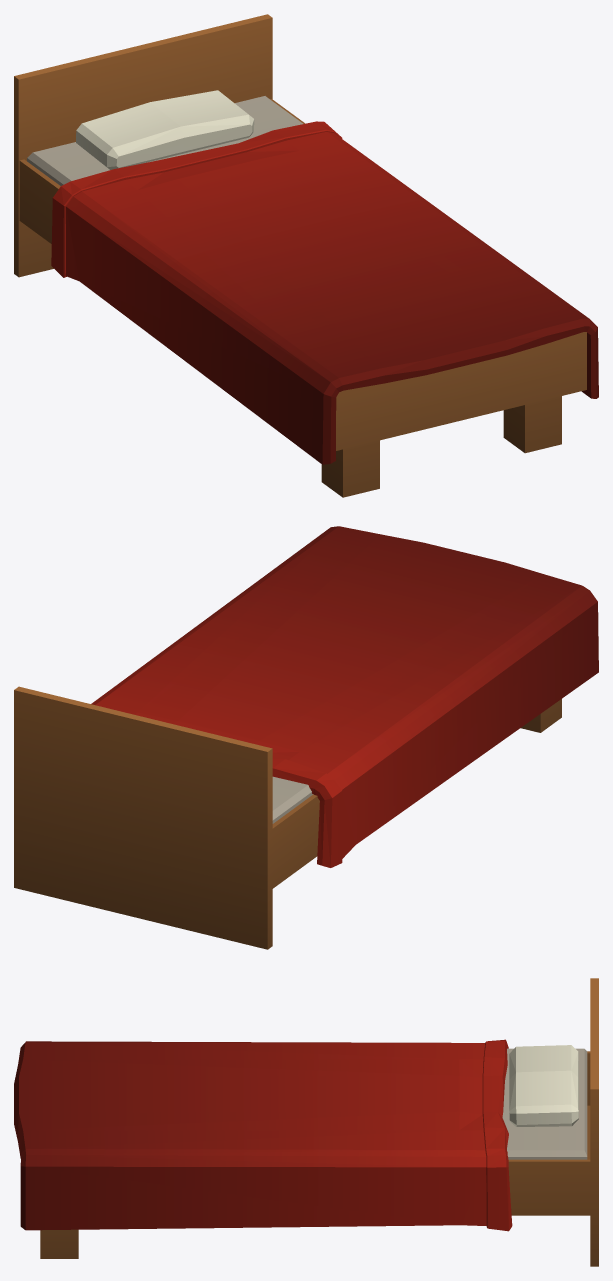
File: Prop_Bed_02.obj
The picture shows the model from 3 angles, top to bottom: view 1: azimuth 30°, elevation 25°; view 2: azimuth 150°, elevation 25°; view 3: azimuth 270°, elevation 25°; orthographic projection. The views are drawn at different scales.
Visible parts, largest first — view 1: Prop_Bed_02; view 2: Prop_Bed_02; view 3: Prop_Bed_02.
Part boxes in pixels (x1=…): Prop_Bed_02: x1=14, y1=14, x2=598, y2=497; Prop_Bed_02: x1=14, y1=526, x2=598, y2=949; Prop_Bed_02: x1=14, y1=978, x2=598, y2=1266.
Bounding box in the file's own units: 1.04 × 0.7 × 2.09.
1 material, 1 textured.
